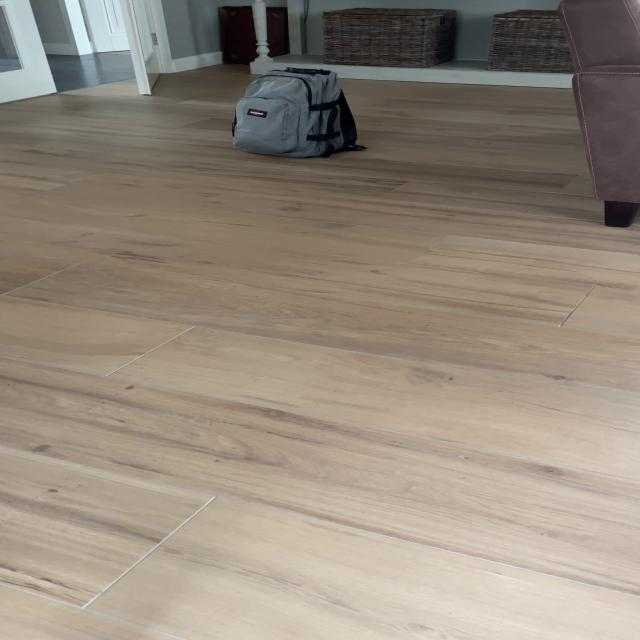backpack: (225, 61, 363, 162)
